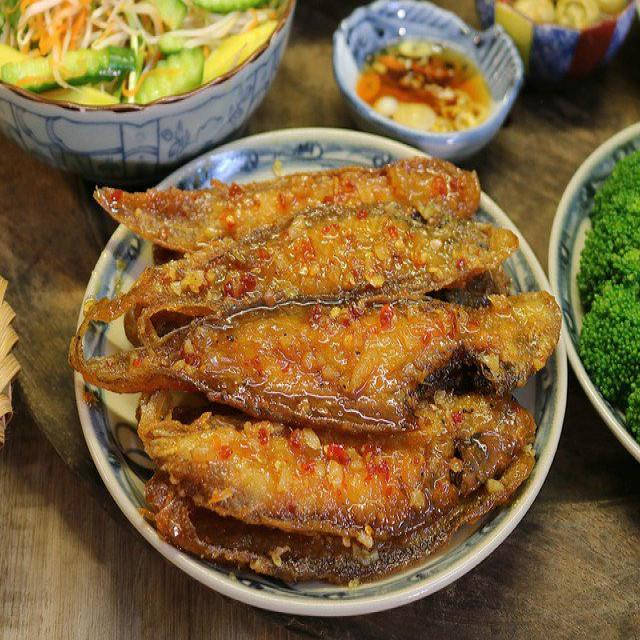ca chien: (137, 391, 534, 584), (72, 292, 558, 431), (79, 205, 517, 344), (95, 157, 479, 252)
